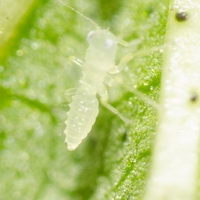insect: (64, 29, 119, 149)
